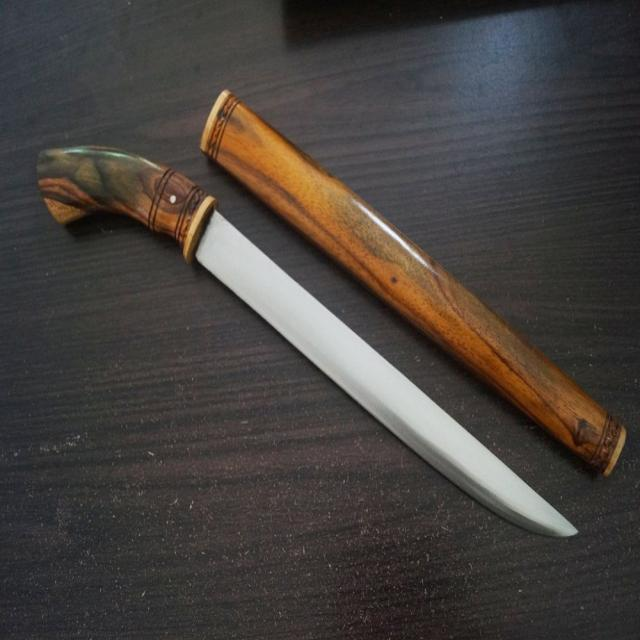Pisau: (21, 107, 594, 564)
